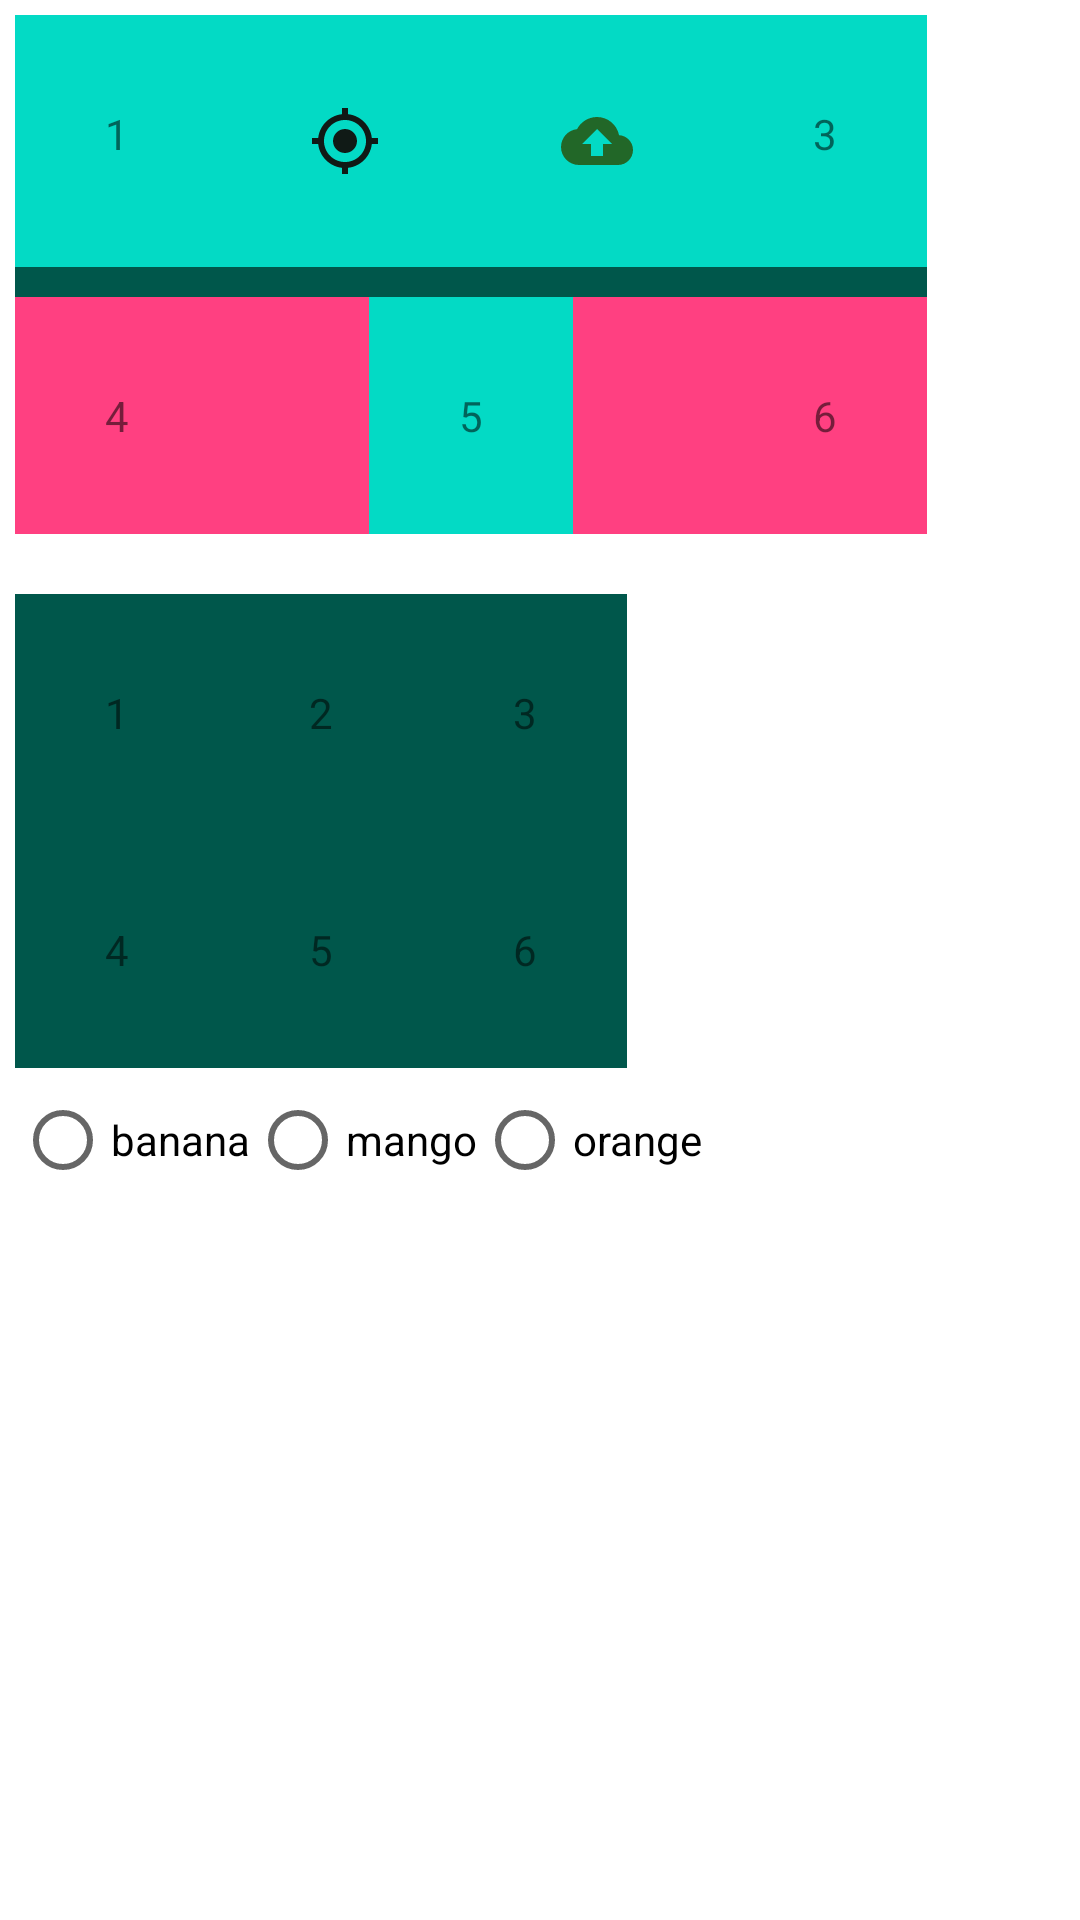

Icon bounding boxes for this 1080 × 1920 phone screenshot, format [x1,y1,x2,y2]:
cloud upload: [561,117,633,165]
gps fixed: [312,108,378,174]
